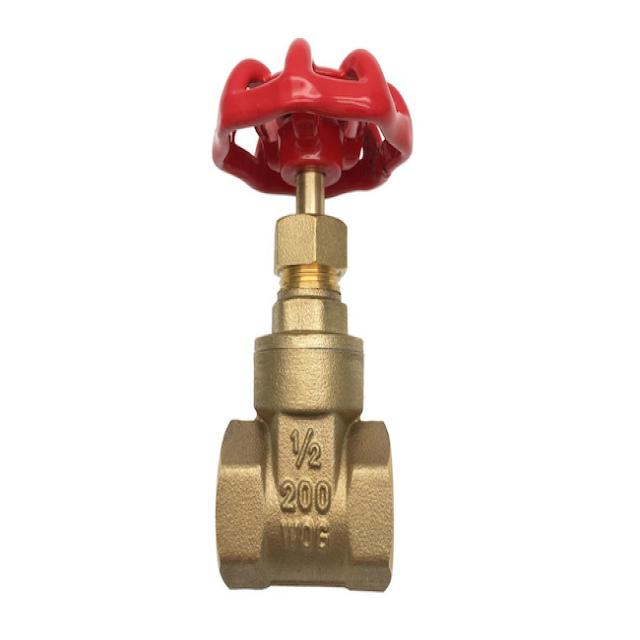Wheel Handle Valve Threaded: (196, 29, 426, 613)
